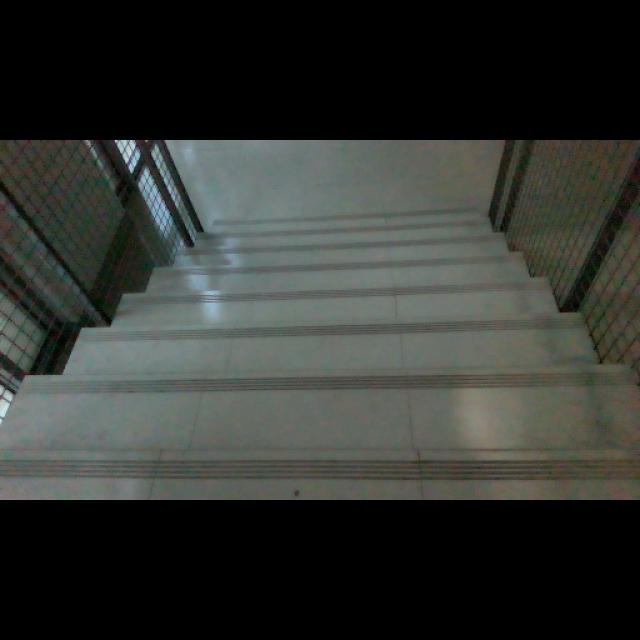stair: (9, 203, 640, 495)
